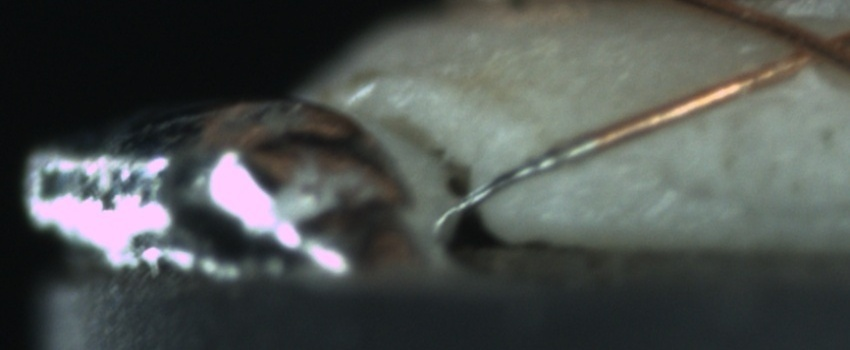CL: (769, 16, 846, 76)
TS: (459, 134, 597, 209)
TTCW: (447, 116, 643, 215)
